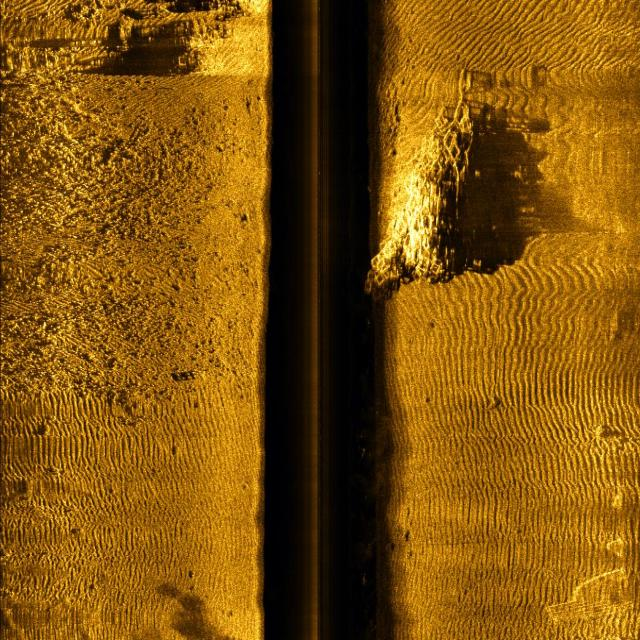artificial reef: (360, 91, 498, 312)
